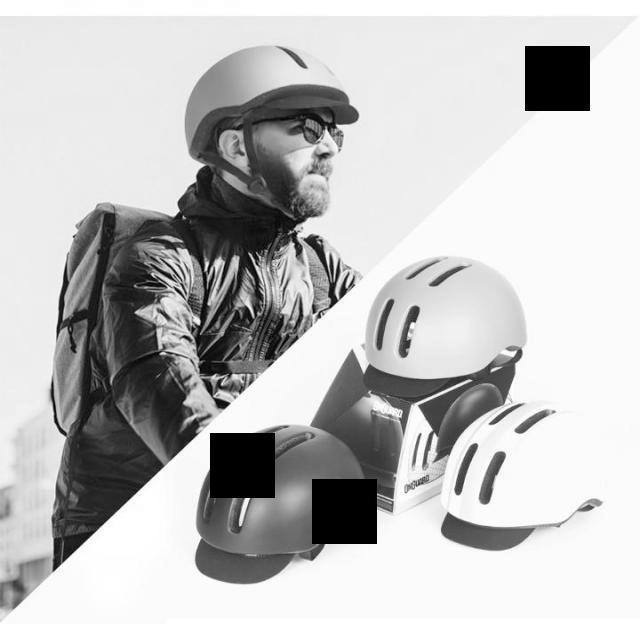helmet: (362, 254, 527, 398), (195, 423, 365, 557), (439, 400, 603, 530), (183, 43, 359, 162)
